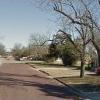Tree: (41, 9, 100, 81)
